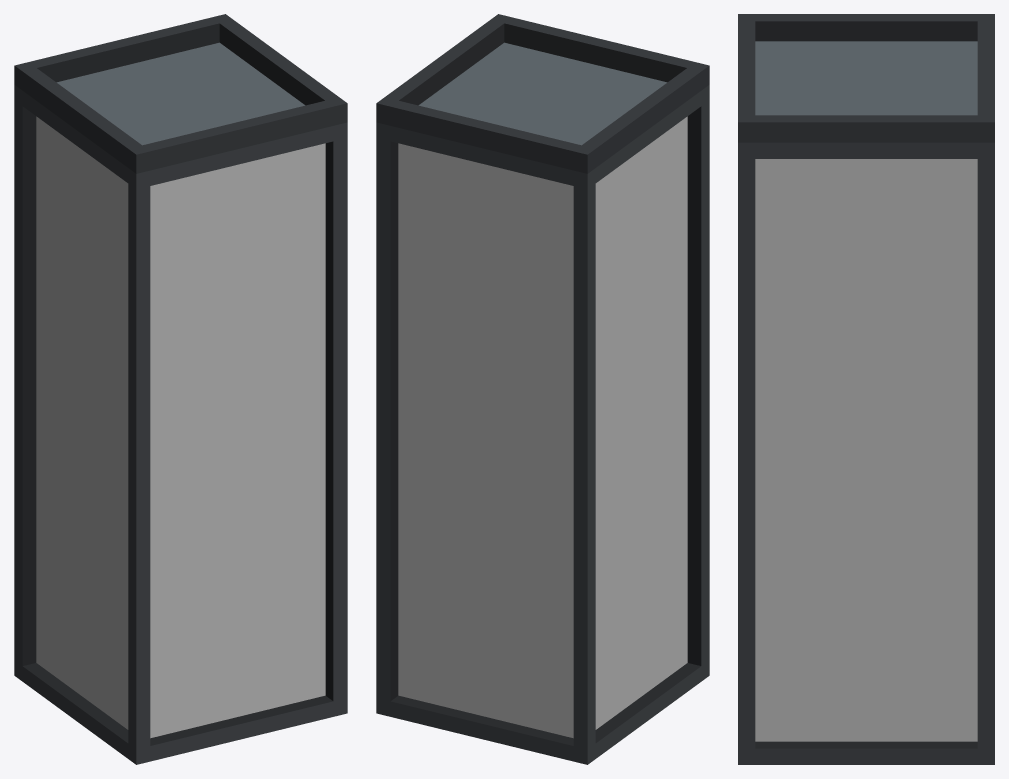
Rendered from SM_Bld_Highrise_08.fbx.
3 renders of one model, left to right at view 1: azimuth 30°, elevation 25°; view 2: azimuth 150°, elevation 25°; view 3: azimuth 270°, elevation 25°, orthographic. The views are drawn at different scales.
Parts seen in each view (by area): view 1: SM_Bld_Highrise_08; view 2: SM_Bld_Highrise_08; view 3: SM_Bld_Highrise_08.
Part boxes in pixels (bbox=[...]): SM_Bld_Highrise_08: bbox=[14, 14, 347, 764]; SM_Bld_Highrise_08: bbox=[376, 14, 709, 764]; SM_Bld_Highrise_08: bbox=[738, 14, 994, 764].
Size of the model in its own units: 52.12 by 144 by 52.12.
